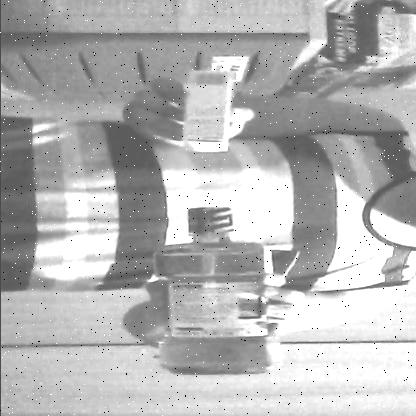Plastic Bottle: (129, 196, 313, 384)
